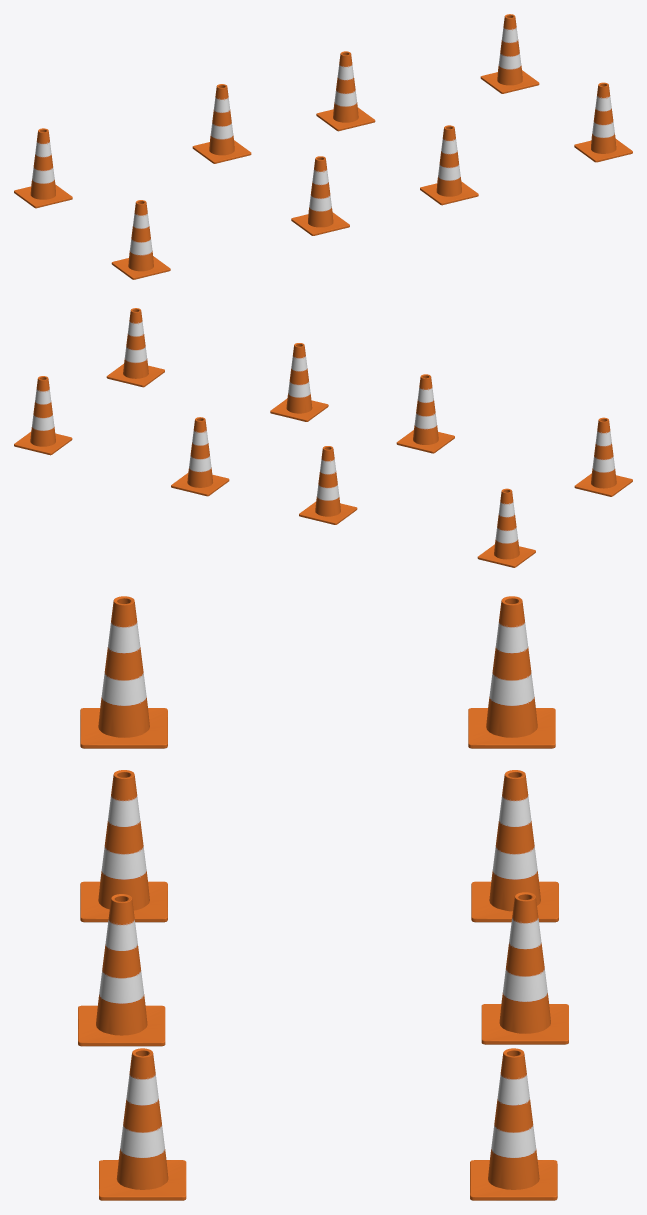
Rendered from Walking90degEnv.FBX.
3 renders of one model, top to bottom at view 1: azimuth 30°, elevation 25°; view 2: azimuth 150°, elevation 25°; view 3: azimuth 270°, elevation 25°, orthographic. The views are drawn at different scales.
Visible parts, largest first — view 1: Road Cone 2, Road Cone 4, Road Cone 6, Road Cone 7, Road Cone, Road Cone 1, Road Cone 3, Road Cone 5; view 2: Road Cone 5, Road Cone 7, Road Cone 4, Road Cone 6, Road Cone 2, Road Cone, Road Cone 1, Road Cone 3; view 3: Road Cone 5, Road Cone 2, Road Cone, Road Cone 7, Road Cone 4, Road Cone 3, Road Cone 1, Road Cone 6.
Part boxes in pixels (x1=…): Road Cone 2: x1=316, y1=51, x2=375, y2=131; Road Cone 4: x1=574, y1=82, x2=632, y2=162; Road Cone 6: x1=192, y1=84, x2=251, y2=163; Road Cone 7: x1=14, y1=128, x2=72, y2=208; Road Cone: x1=111, y1=200, x2=170, y2=279; Road Cone 1: x1=291, y1=156, x2=349, y2=235; Road Cone 3: x1=480, y1=14, x2=539, y2=93; Road Cone 5: x1=420, y1=125, x2=478, y2=205; Road Cone 5: x1=270, y1=343, x2=328, y2=421; Road Cone 7: x1=477, y1=488, x2=535, y2=567; Road Cone 4: x1=106, y1=308, x2=164, y2=387; Road Cone 6: x1=299, y1=446, x2=357, y2=524; Road Cone 2: x1=171, y1=417, x2=229, y2=496; Road Cone: x1=574, y1=417, x2=632, y2=496; Road Cone 1: x1=396, y1=374, x2=454, y2=453; Road Cone 3: x1=14, y1=376, x2=72, y2=455; Road Cone 5: x1=78, y1=894, x2=165, y2=1046; Road Cone 2: x1=481, y1=892, x2=568, y2=1044; Road Cone: x1=80, y1=596, x2=167, y2=748; Road Cone 7: x1=468, y1=596, x2=555, y2=748; Road Cone 4: x1=99, y1=1048, x2=186, y2=1200; Road Cone 3: x1=470, y1=1048, x2=557, y2=1200; Road Cone 1: x1=80, y1=770, x2=167, y2=922; Road Cone 6: x1=471, y1=770, x2=558, y2=922.
Bounding box in the file's own units: 0.5512 × 0.0682 × 0.2339.
